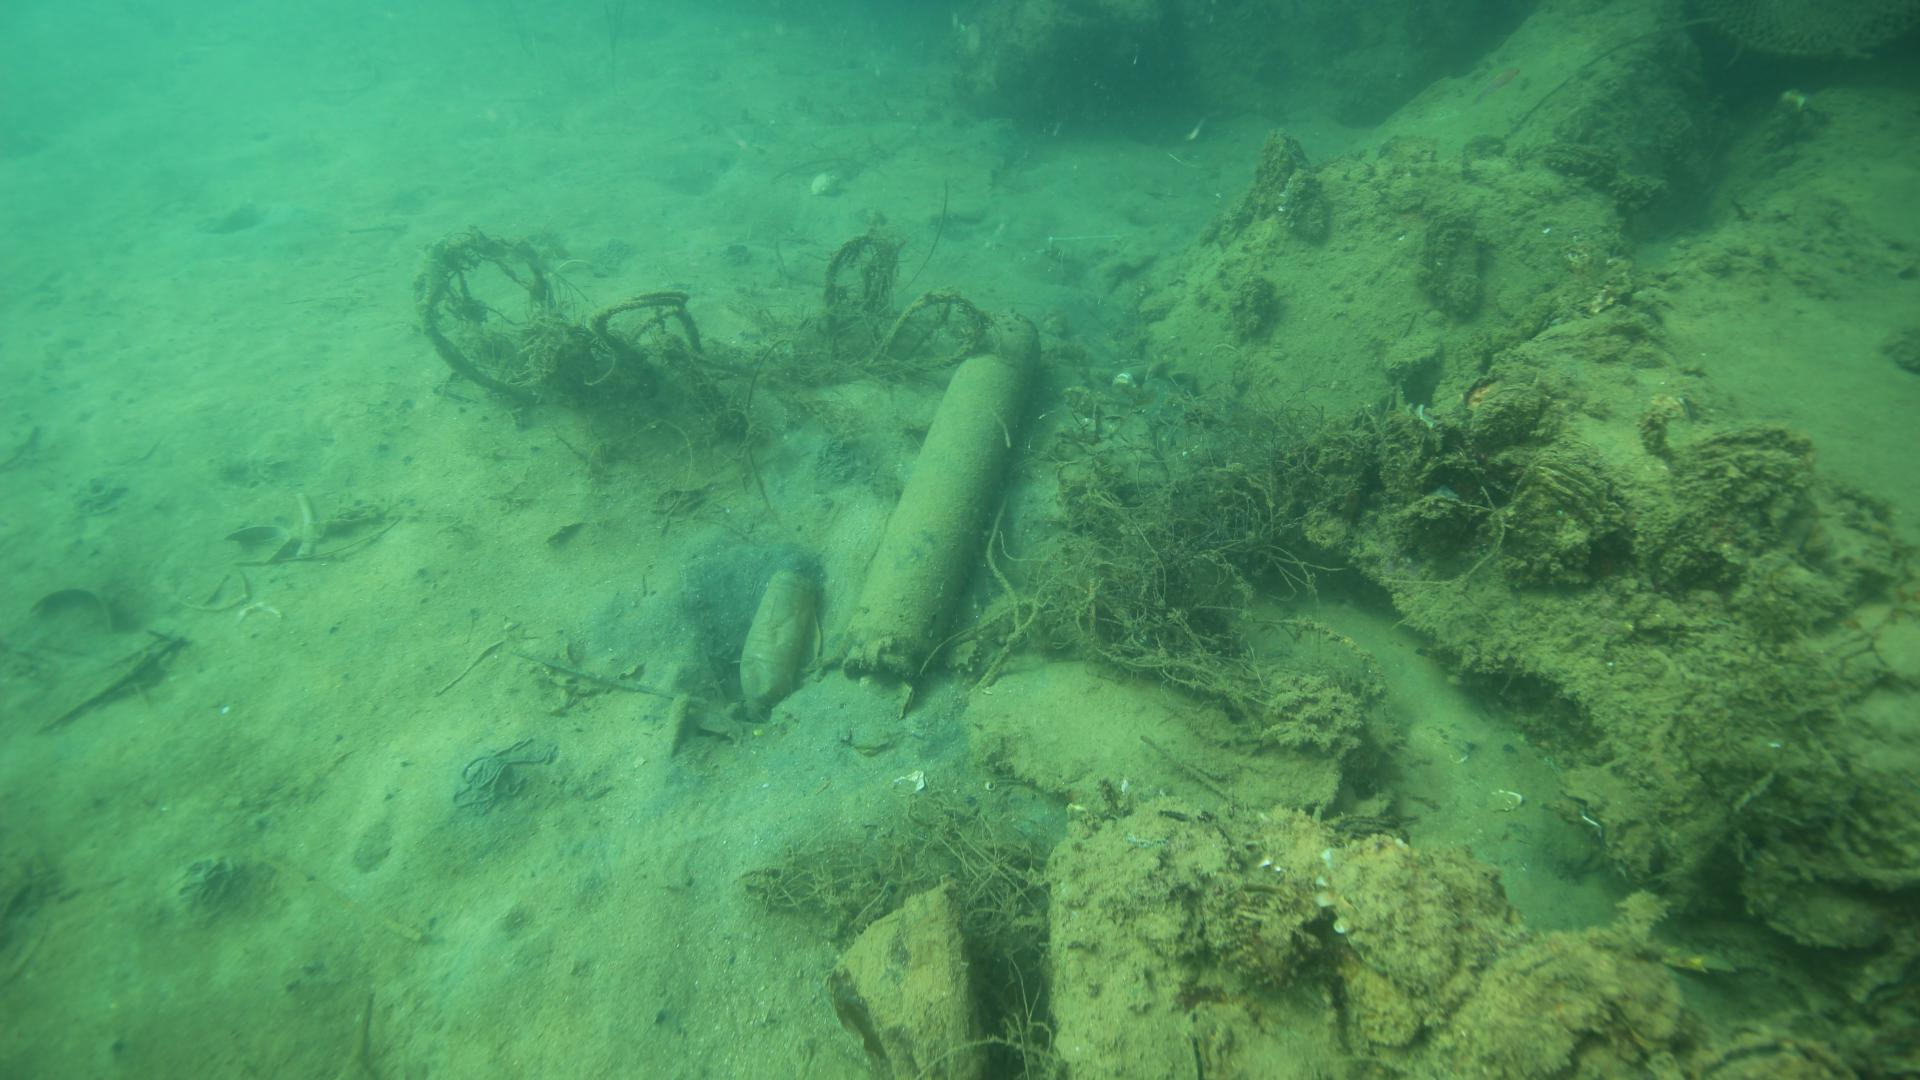eel fish trap: (835, 305, 1046, 680)
